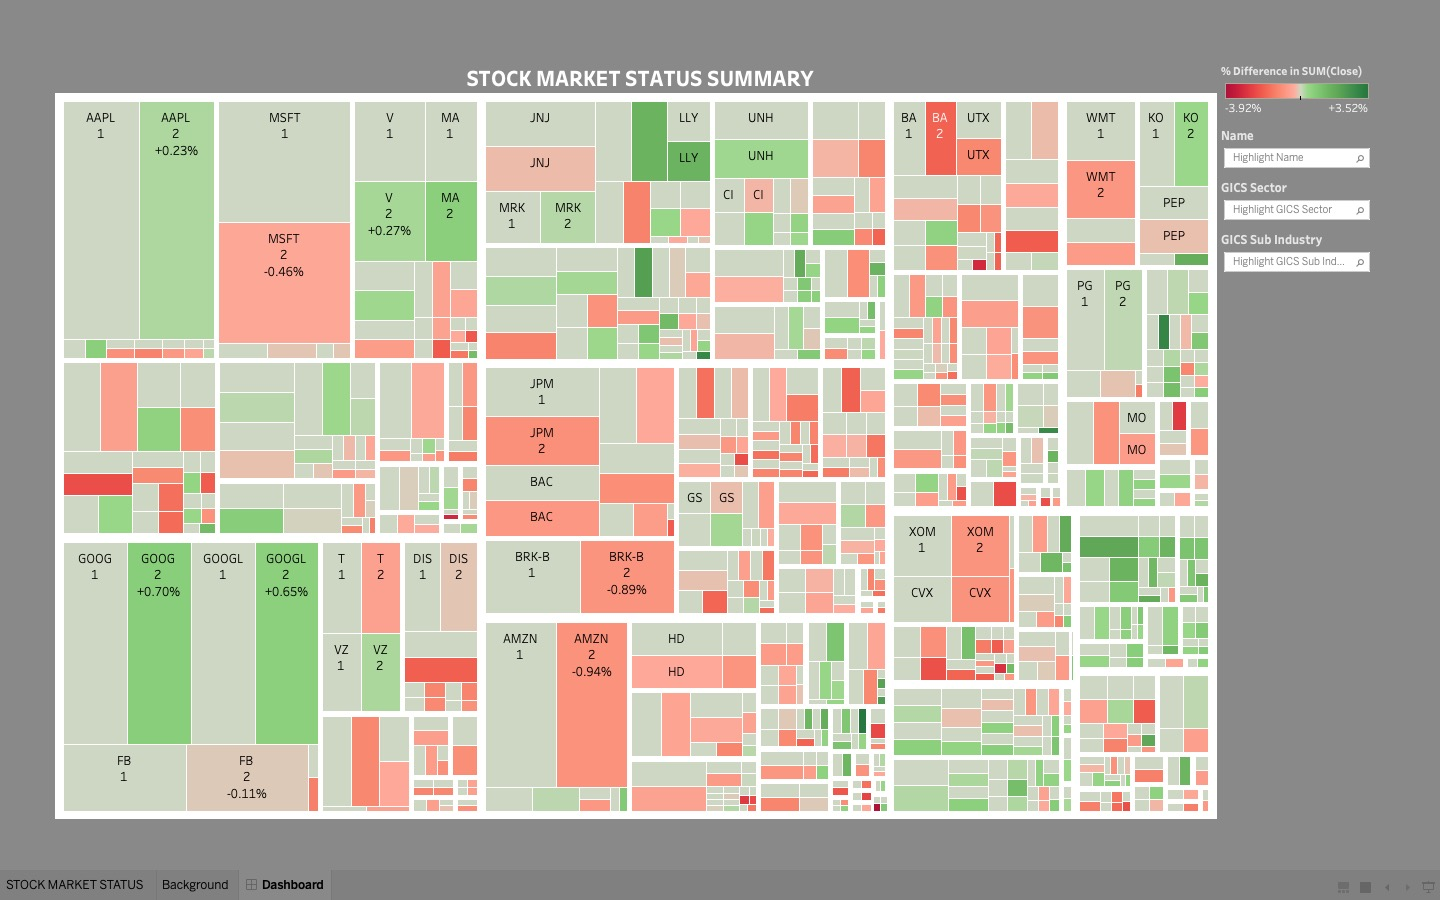

The dashboard page shown, as its layout file describes it:
{"tool":"tableau","page":{"name":"Dashboard","canvas":[1330,768],"ordinal":0},"visuals":[{"type":"title","box":[8,8,1154,37]},{"type":"legend","title":"STOCK MARKET STATUS","param":"[federated.19nrgn11gadl7m17ce8gq082o66i].[pcdf:sum:Close:qk:2]","box":[1162,8,160,64]},{"type":"worksheet","title":"STOCK MARKET STATUS","mark":"Automatic","box":[0,42,1330,726]},{"type":"worksheet","title":"Background","mark":"Automatic","box":[8,45,1154,715]},{"type":"highlighter","title":"STOCK MARKET STATUS","param":"[federated.19nrgn11gadl7m17ce8gq082o66i].[none:Name:nk]","box":[1162,72,160,52]},{"type":"highlighter","title":"STOCK MARKET STATUS","param":"[federated.19nrgn11gadl7m17ce8gq082o66i].[none:GICS Sector:nk]","box":[1162,124,160,52]},{"type":"highlighter","title":"STOCK MARKET STATUS","param":"[federated.19nrgn11gadl7m17ce8gq082o66i].[none:GICS Sub Industry:nk]","box":[1162,176,160,52]}]}

Visuals, with their boxes on the page's 1330x768 design canvas (x1, y1, x2, y2). These are canvas units, not pixel positions in the 1440x900 screenshot, which may show the page scaled, cropped or inside an application window:
title: locate(8, 8, 1162, 45)
"STOCK MARKET STATUS" legend: locate(1162, 8, 1322, 72)
"STOCK MARKET STATUS" worksheet: locate(0, 42, 1330, 768)
"Background" worksheet: locate(8, 45, 1162, 760)
"STOCK MARKET STATUS" highlighter: locate(1162, 72, 1322, 124)
"STOCK MARKET STATUS" highlighter: locate(1162, 124, 1322, 176)
"STOCK MARKET STATUS" highlighter: locate(1162, 176, 1322, 228)
